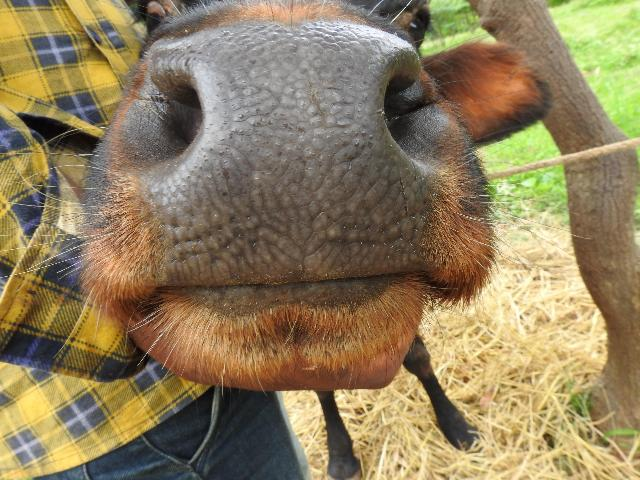Muzzle: (184, 35, 398, 282)
